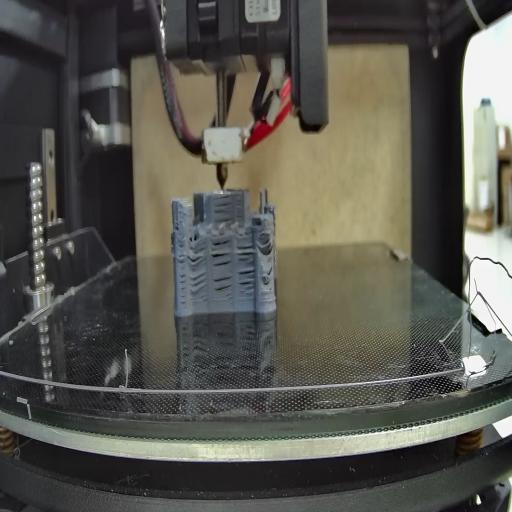cracks: (210, 238, 233, 268), (177, 245, 187, 312), (213, 275, 234, 301), (238, 269, 256, 298), (214, 196, 234, 221), (236, 242, 256, 264), (188, 246, 206, 266), (190, 273, 207, 294), (258, 240, 274, 252), (264, 266, 274, 282), (174, 221, 182, 235)
